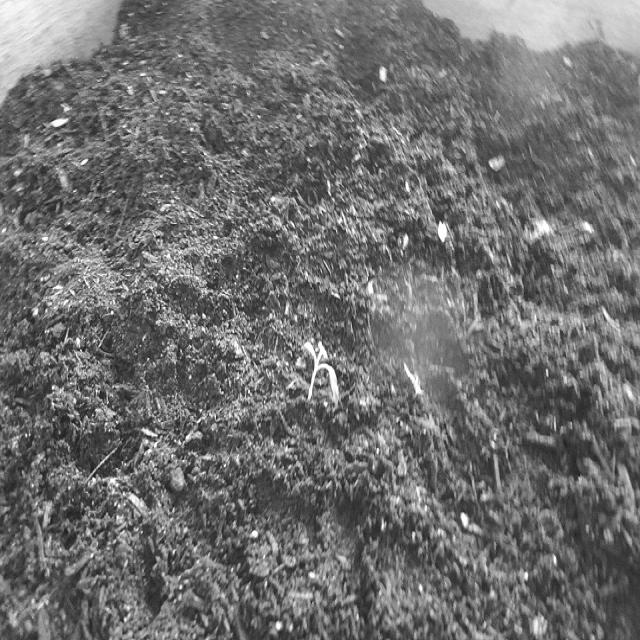Healthy: (296, 319, 348, 429)
